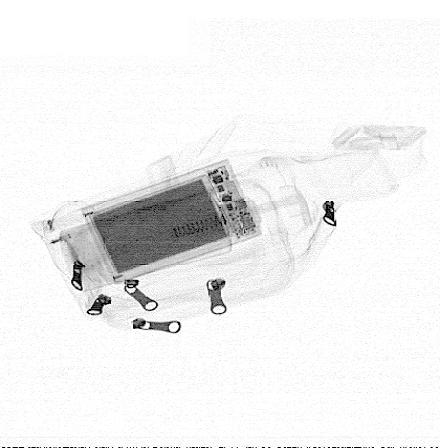Powerbank: (80, 157, 261, 285)
